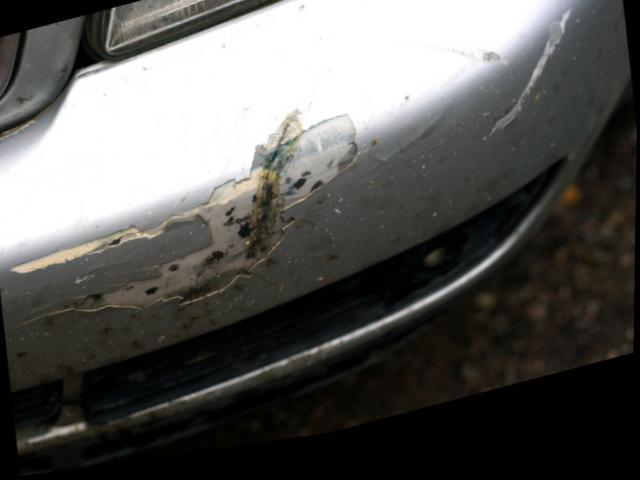scratch: (0, 109, 367, 334), (482, 19, 574, 153)
